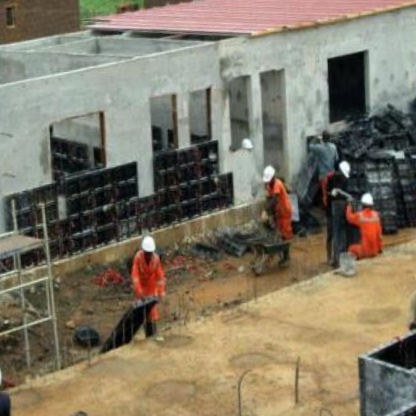vest: (129, 251, 171, 291), (266, 177, 295, 220)
white: (353, 205, 389, 255), (138, 233, 161, 255), (259, 162, 280, 184), (360, 187, 376, 205), (410, 259, 416, 288), (0, 355, 4, 389)
